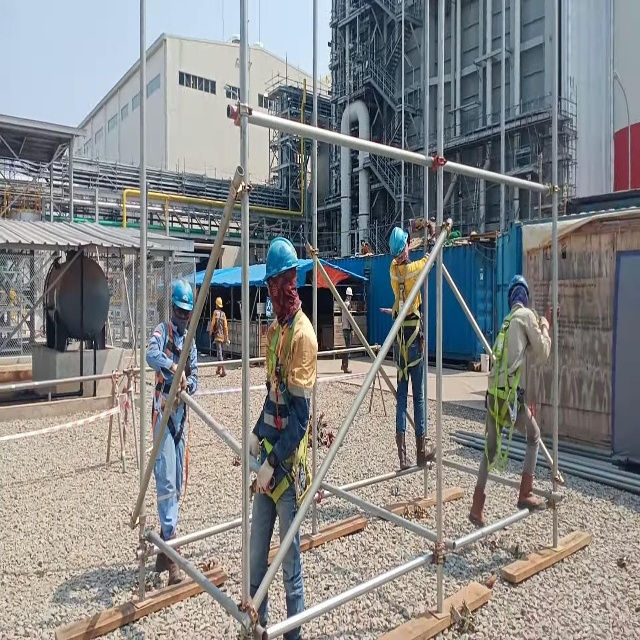Arnes_seguridad: (251, 307, 313, 515), (147, 315, 194, 516), (485, 301, 530, 470), (390, 257, 427, 387)
